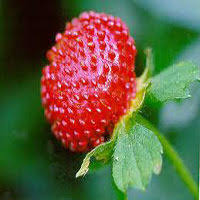ripe: (40, 8, 148, 157)
